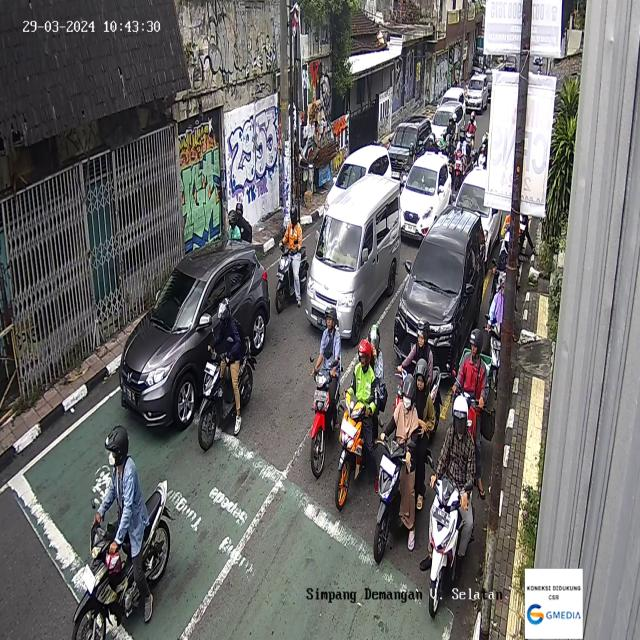car: (118, 236, 270, 431), (394, 203, 486, 383), (308, 174, 402, 340), (323, 144, 392, 219), (454, 167, 502, 270), (399, 150, 452, 242), (388, 116, 432, 177), (431, 101, 466, 147), (465, 73, 488, 112)
motorcycle: (72, 425, 174, 639), (374, 358, 436, 564), (421, 396, 478, 618), (334, 324, 388, 511), (197, 295, 257, 451), (446, 326, 492, 503), (308, 306, 344, 478), (393, 319, 443, 438), (274, 206, 310, 314), (483, 274, 505, 396), (452, 126, 468, 188), (464, 111, 478, 160)
